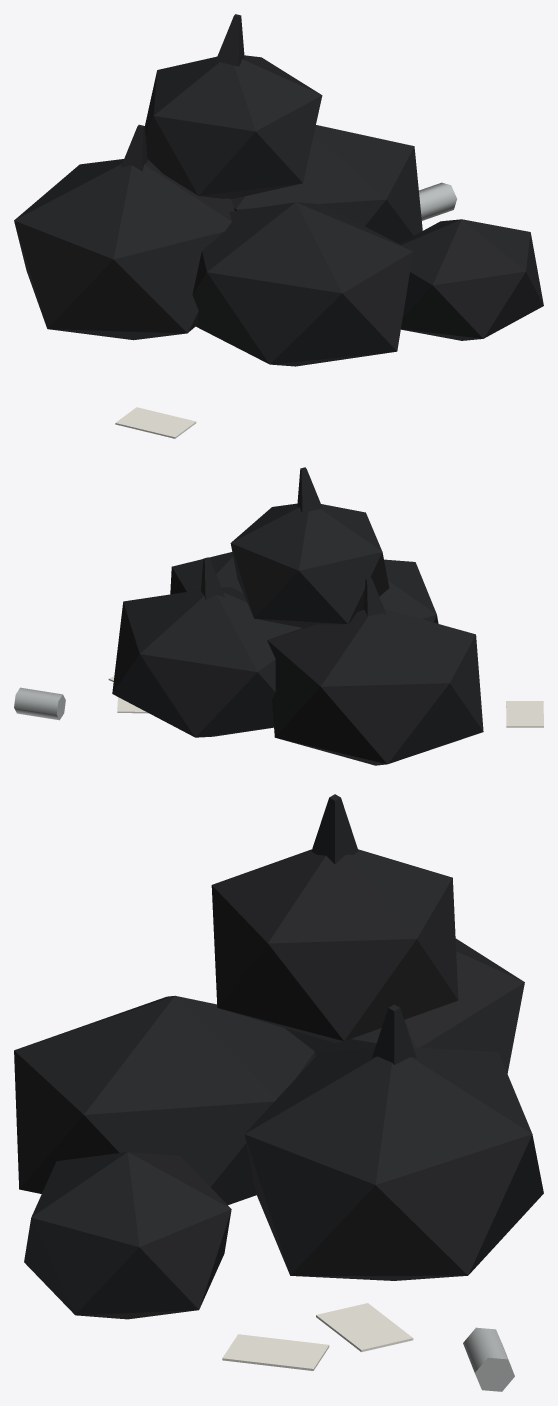
File: trash_bags.glb
3 renders of one model, top to bottom at view 1: azimuth 30°, elevation 25°; view 2: azimuth 150°, elevation 25°; view 3: azimuth 270°, elevation 25°, orthographic. The views are drawn at different scales.
Parts seen in each view (by area): view 1: trash_bags; view 2: trash_bags; view 3: trash_bags.
Boxes of the visible parts, bbox=[...] form: trash_bags: bbox=[14, 14, 543, 438]; trash_bags: bbox=[14, 467, 543, 765]; trash_bags: bbox=[14, 794, 543, 1391].
Size of the model in its own units: 1.26 by 0.8002 by 0.8951.
1 material, 1 textured.
